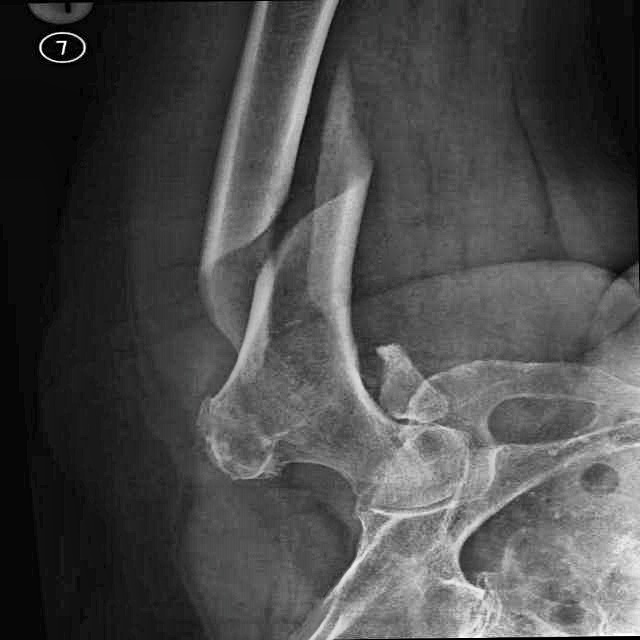Spiral: (157, 73, 391, 364)
